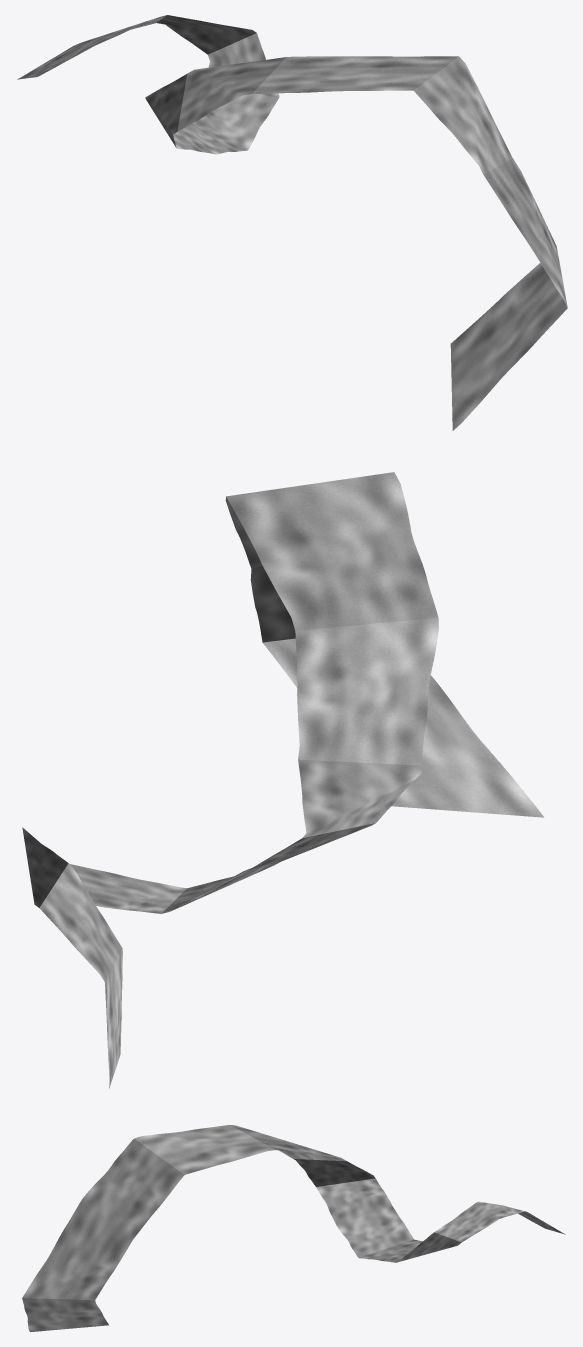
Rendered from djinncloud.obj.
3 views of the same model, one above another, from view 1: azimuth 30°, elevation 25°; view 2: azimuth 150°, elevation 25°; view 3: azimuth 270°, elevation 25° (orthographic). The views are drawn at different scales.
Parts seen in each view (by area): view 1: Base; view 2: Base; view 3: Base.
Part boxes in pixels (bbox=[...]): Base: bbox=[17, 15, 567, 430]; Base: bbox=[22, 472, 544, 1088]; Base: bbox=[22, 1125, 565, 1332].
Size of the model in its own units: 0.3128 by 0.337 by 0.8116.
Materials: 1 (1 with a texture image).
